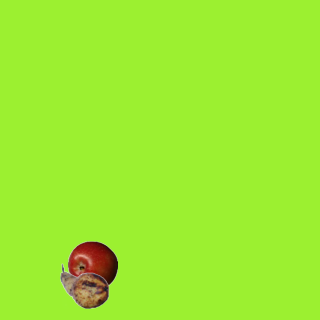Apple Braeburn: (67, 240, 117, 290)
Pear Abate: (59, 261, 109, 311)
